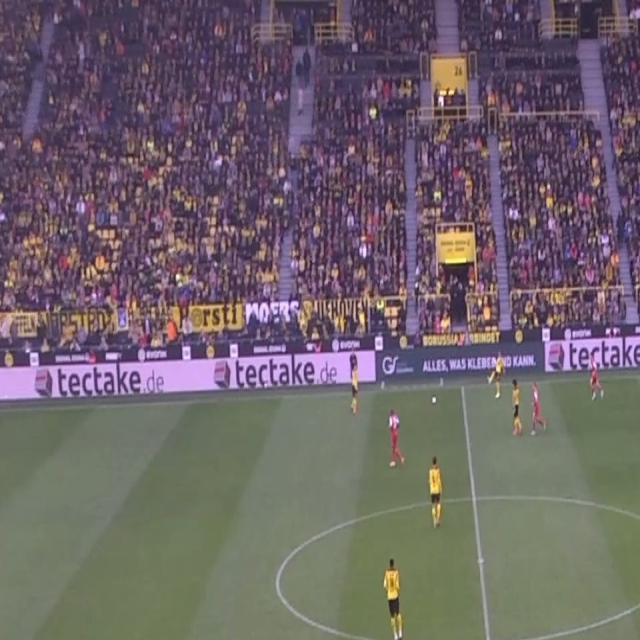ball: (431, 394, 438, 405)
